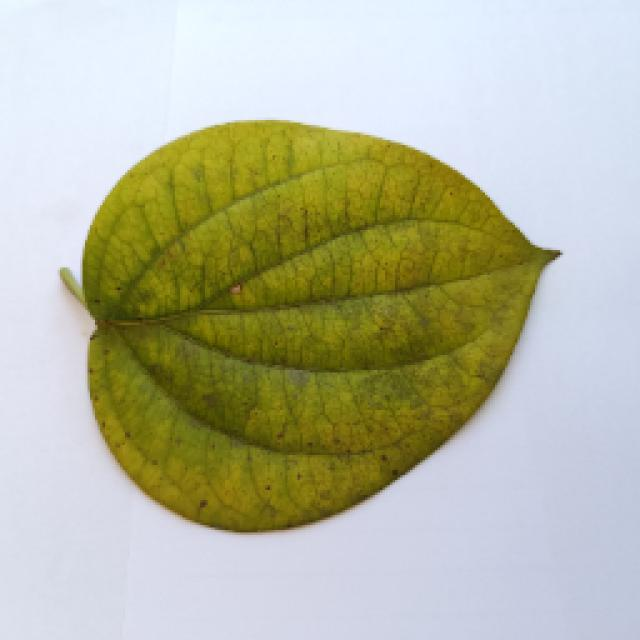slow-decline: (45, 125, 575, 545)
